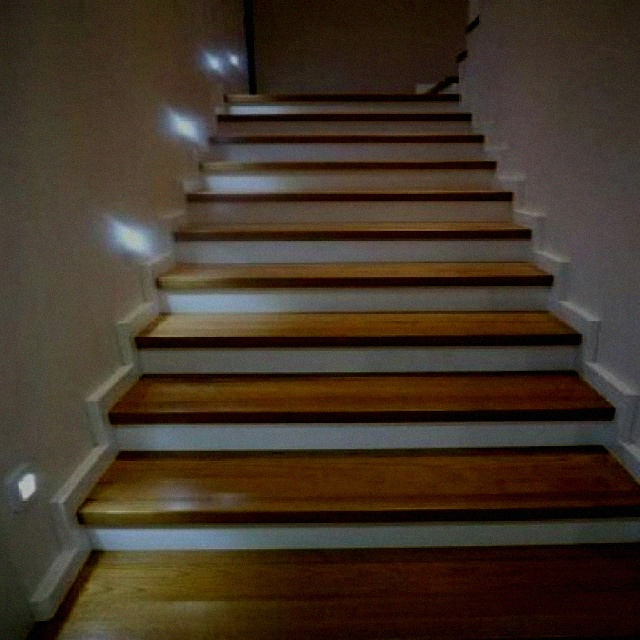stair: (2, 25, 638, 639)
